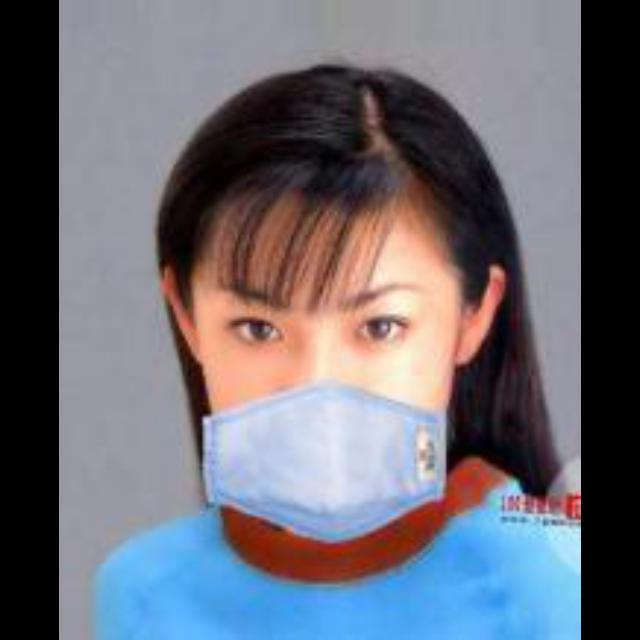suspicion: (122, 159, 504, 525)
